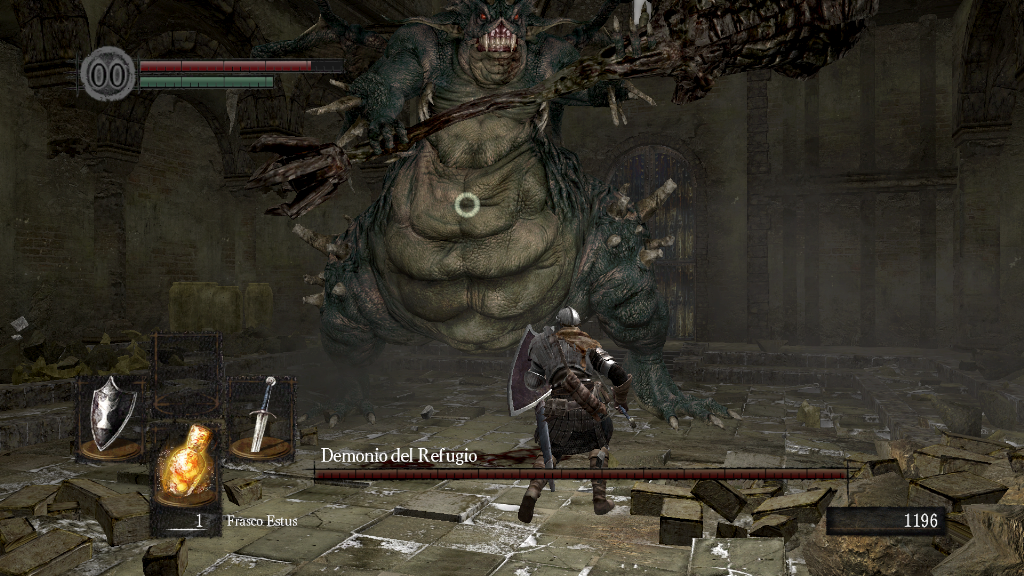asylumDemon: (243, 2, 884, 430)
bossHP: (314, 469, 847, 479)
health: (138, 58, 343, 71)
humanity: (80, 45, 136, 102)
player: (507, 306, 639, 526)
souls: (825, 506, 945, 536)
stamina: (138, 74, 274, 88)
